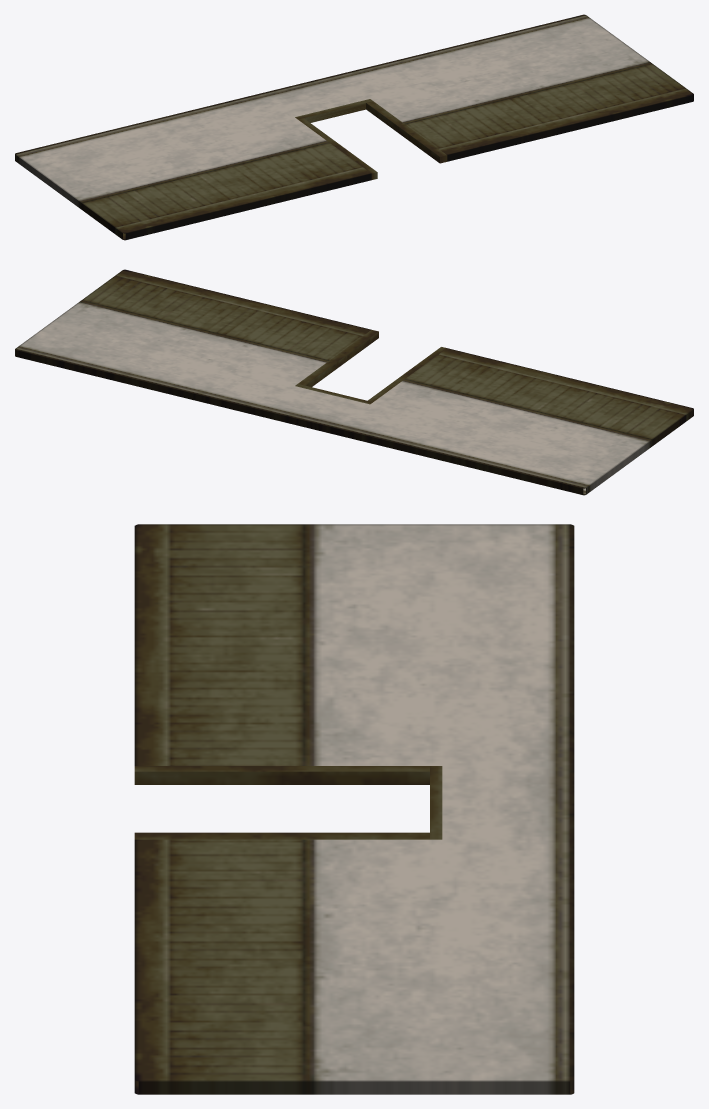
The model's file is SM_EC_House_Wall_DoorWay_9x3_1.fbx.
3 views of the same model, one above another, from view 1: azimuth 30°, elevation 25°; view 2: azimuth 150°, elevation 25°; view 3: azimuth 270°, elevation 25° (orthographic). The views are drawn at different scales.
Parts seen in each view (by area): view 1: SM_EC_House_Wall_DoorWay_9x3_1; view 2: SM_EC_House_Wall_DoorWay_9x3_1; view 3: SM_EC_House_Wall_DoorWay_9x3_1.
Boxes of the visible parts, <box> form: SM_EC_House_Wall_DoorWay_9x3_1: <box>15,14,693,240</box>; SM_EC_House_Wall_DoorWay_9x3_1: <box>15,269,693,495</box>; SM_EC_House_Wall_DoorWay_9x3_1: <box>134,524,574,1094</box>.
Bounding box in the file's own units: 9 × 3 × 0.1.
